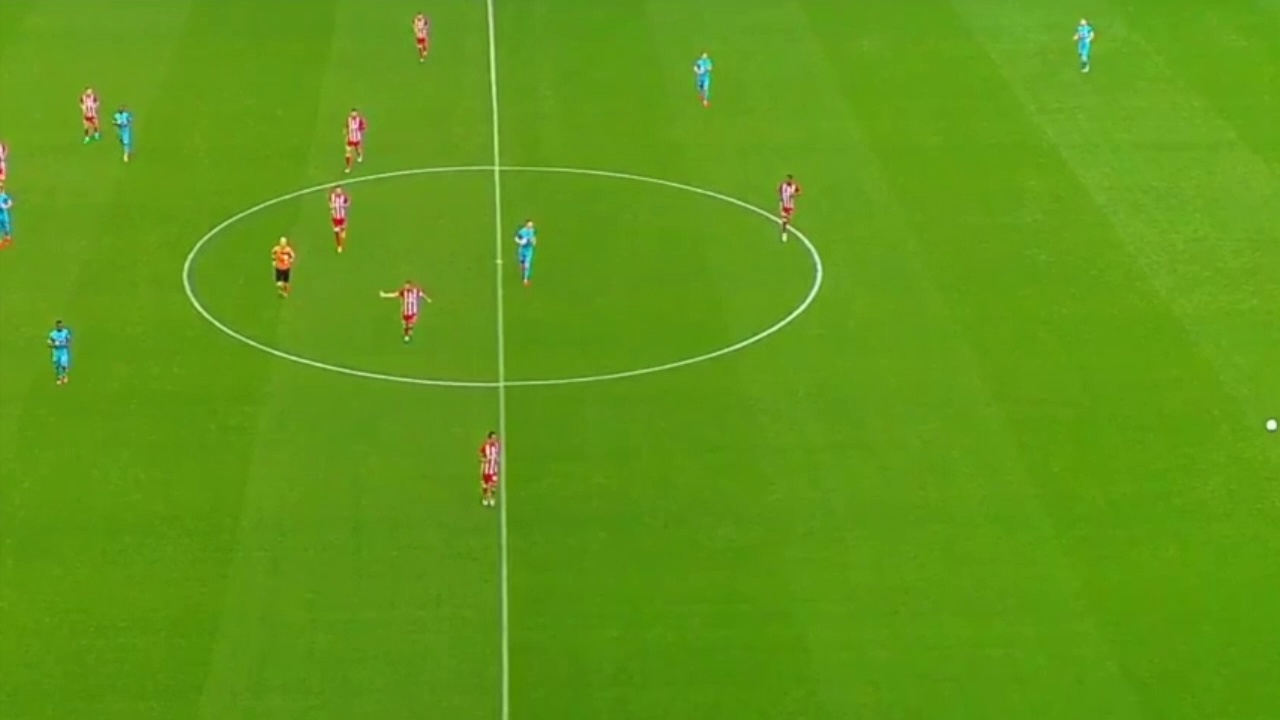ball: (1263, 416, 1279, 435)
person: (381, 279, 439, 345), (324, 180, 360, 254), (477, 427, 505, 508), (773, 172, 803, 245), (513, 216, 542, 286), (342, 102, 370, 173), (48, 319, 75, 384), (1070, 15, 1099, 75), (111, 105, 141, 159), (691, 47, 717, 106), (77, 81, 99, 147), (410, 11, 432, 63)
